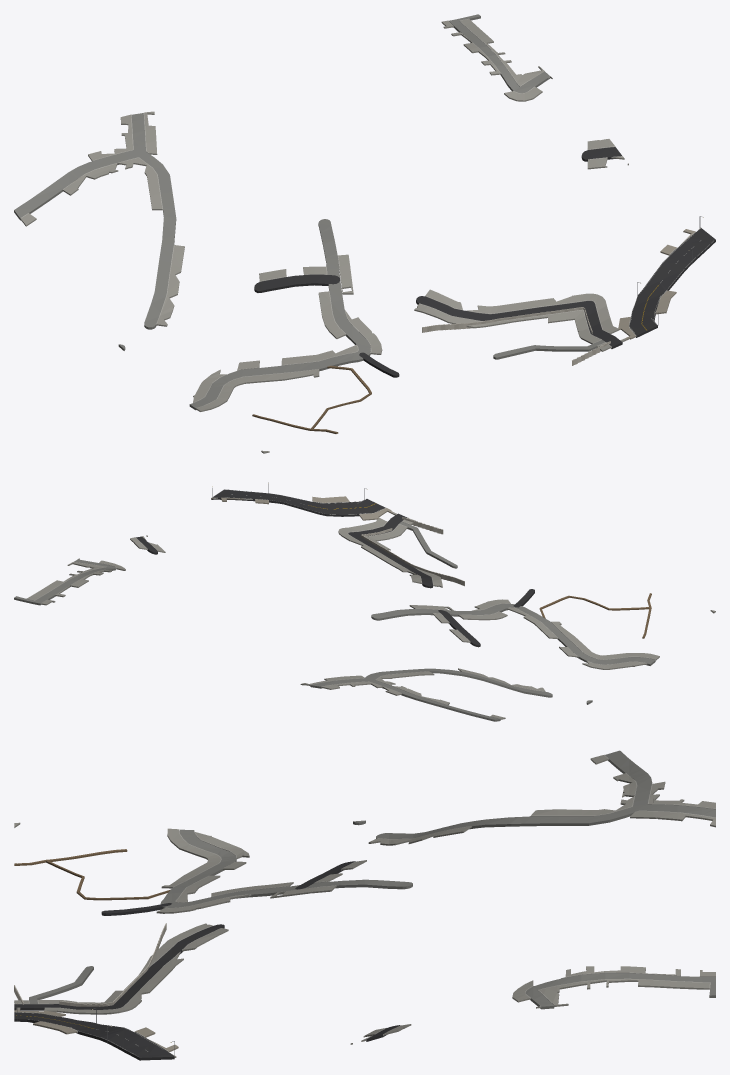
The picture shows the model from 3 angles, top to bottom: view 1: azimuth 30°, elevation 25°; view 2: azimuth 150°, elevation 25°; view 3: azimuth 270°, elevation 25°; orthographic projection. The views are drawn at different scales.
Bounding box in the file's own units: 294 × 63.34 × 292.
